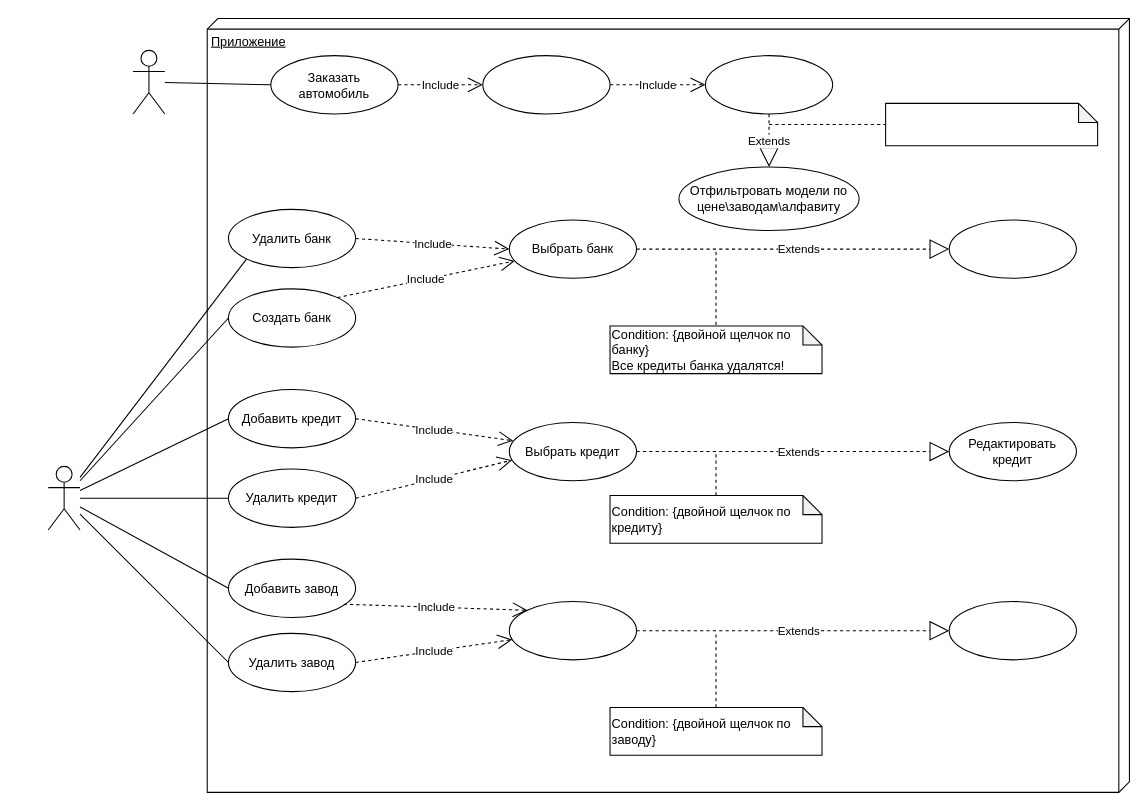
This 1148x811 diagram has some shape labels left out. The shapes that lost their labels are listed below. From the top down, each one's centre as x and y in pixels, then its label:
(x=148, y=81): Пользователь
(x=546, y=84): Выбрать кредит и производителя
(x=768, y=84): Выбрать модель
(x=991, y=124): Condition: {пока находится на странице каталога}
(x=1012, y=248): Редактировать банк
(x=63, y=497): Администратор
(x=572, y=630): Выбрать завод
(x=1012, y=630): Редактировать завод
